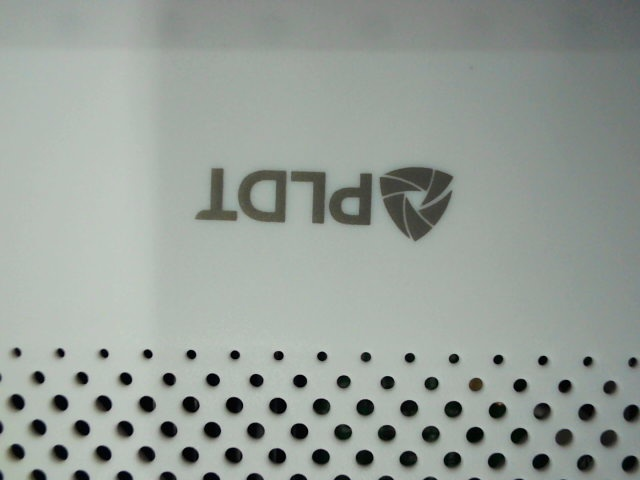BH_PLDT: (185, 143, 468, 250)
